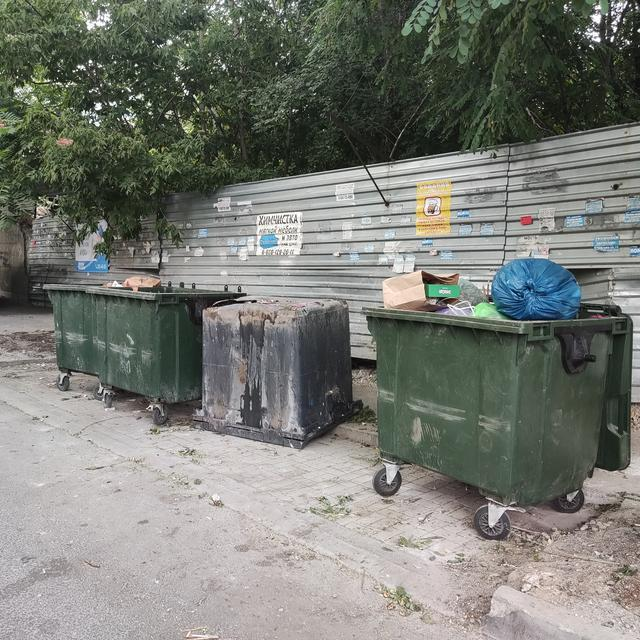Trash_Can_Empty: (86, 284, 247, 404), (43, 281, 108, 375)
Trash_Can_Full: (362, 256, 625, 506)
